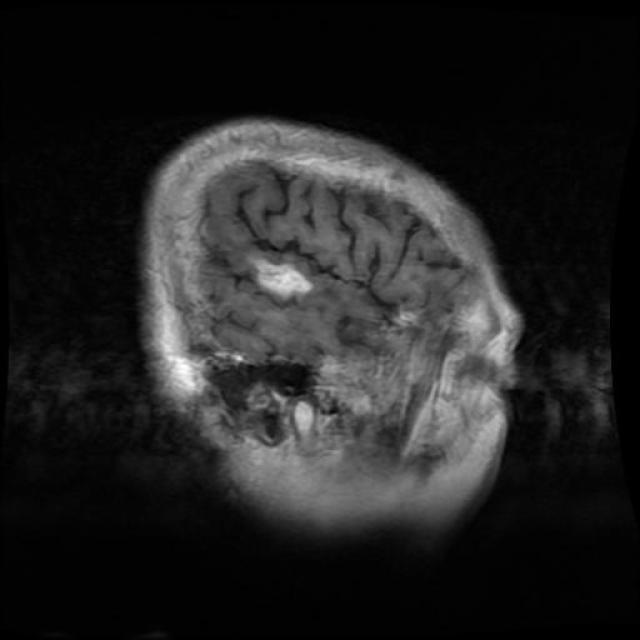glioma: (244, 252, 324, 310)
